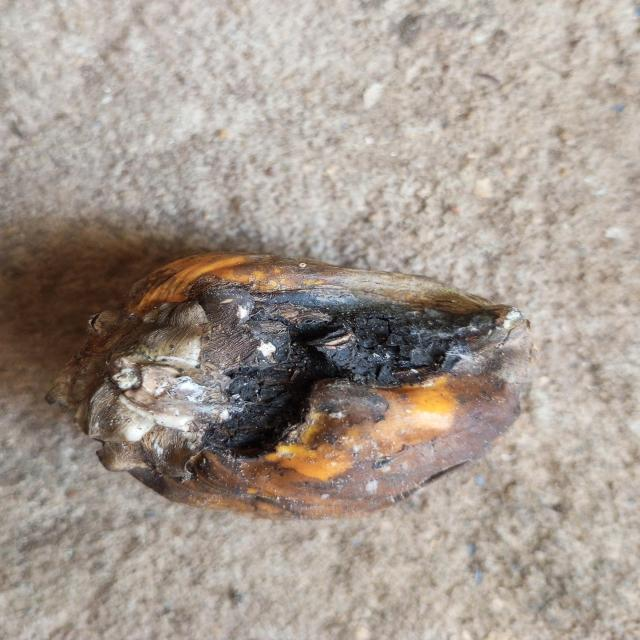damaged: (48, 254, 531, 517)
